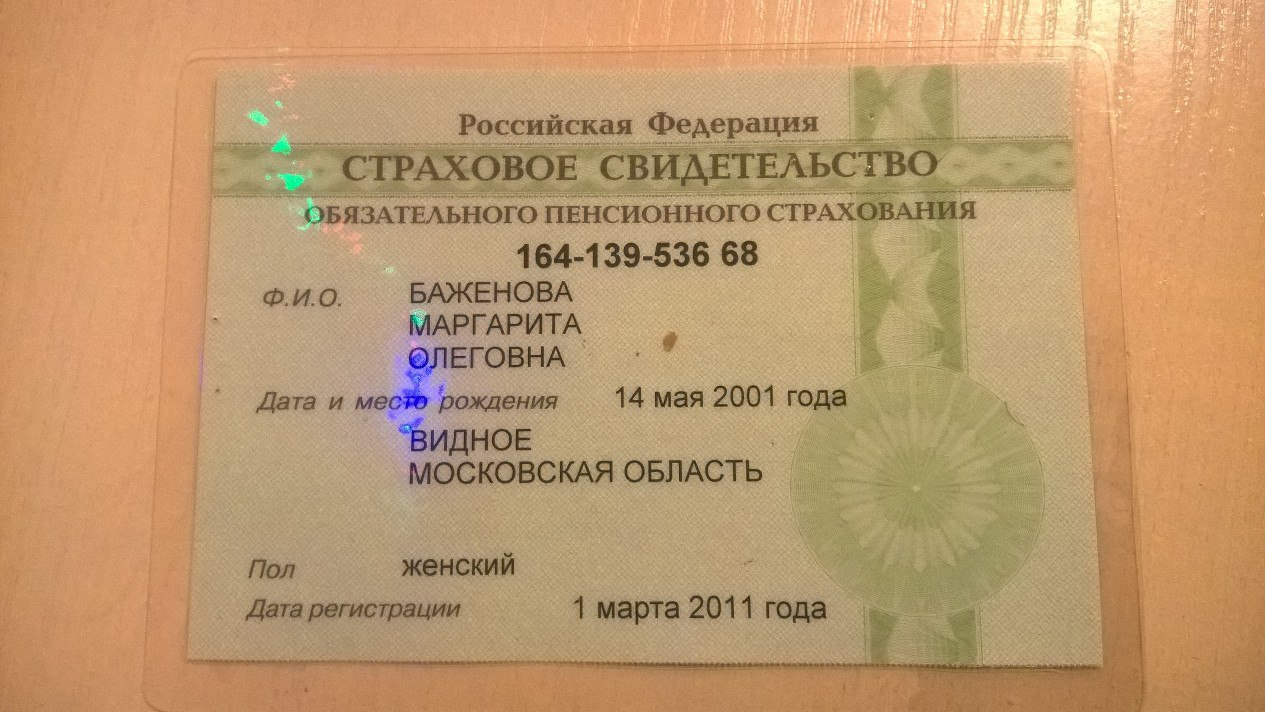text: (395, 422, 772, 488), (501, 232, 771, 269), (572, 590, 838, 621), (235, 592, 467, 625), (609, 384, 855, 414), (402, 272, 583, 307), (397, 341, 581, 371), (401, 310, 595, 338), (395, 551, 537, 582), (243, 558, 302, 583)
